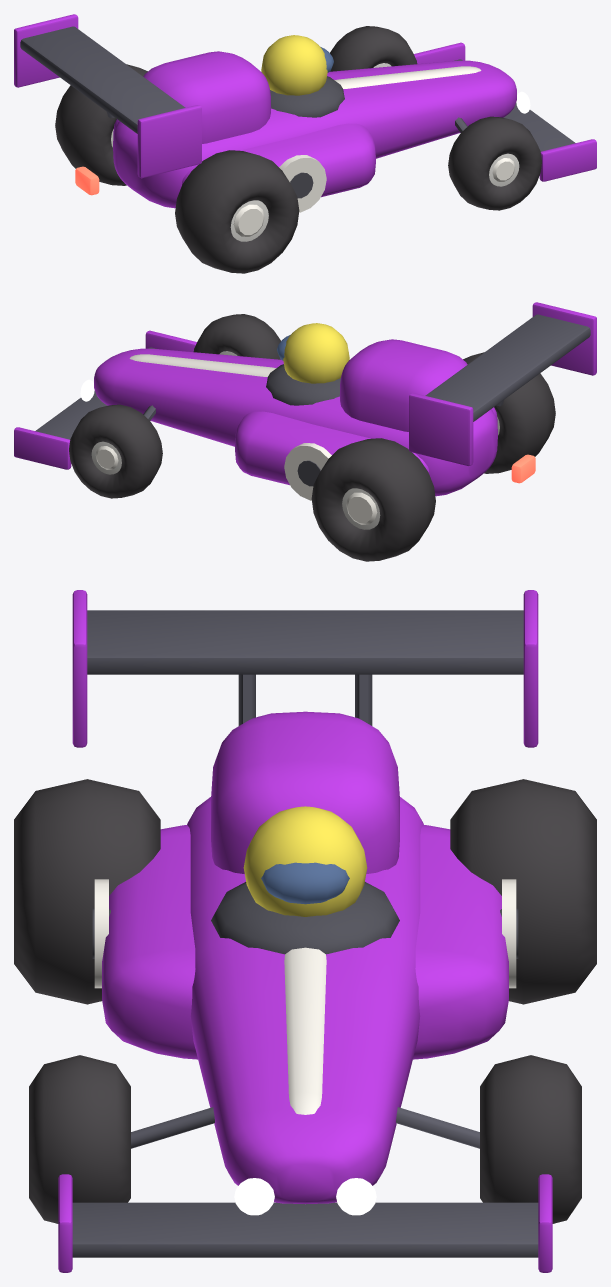
The model's file is racecar.glb.
The picture shows the model from 3 angles, top to bottom: view 1: azimuth 30°, elevation 25°; view 2: azimuth 150°, elevation 25°; view 3: azimuth 270°, elevation 25°; orthographic projection. The views are drawn at different scales.
Visible parts, largest first — view 1: racecar, wheel_3, wheel_1, wheel_2, wheel_0; view 2: racecar, wheel_2, wheel_0, wheel_3, wheel_1; view 3: racecar, wheel_2, wheel_3, wheel_0, wheel_1.
Part boxes in pixels (x1,y1,x2,y2): racecar: (14, 14, 596, 212); wheel_3: (175, 150, 299, 273); wheel_1: (448, 116, 541, 210); wheel_2: (55, 64, 147, 185); wheel_0: (330, 26, 417, 71); racecar: (14, 302, 596, 500); wheel_2: (311, 438, 435, 561); wheel_0: (69, 404, 162, 498); wheel_3: (463, 352, 555, 473); wheel_1: (193, 314, 280, 359); racecar: (58, 590, 552, 1272); wheel_2: (450, 779, 596, 1004); wheel_3: (14, 779, 160, 1004); wheel_0: (480, 1055, 581, 1223); wheel_1: (29, 1055, 130, 1223).
Bounding box in the file's own units: 1.31 × 0.4788 × 0.8016.
